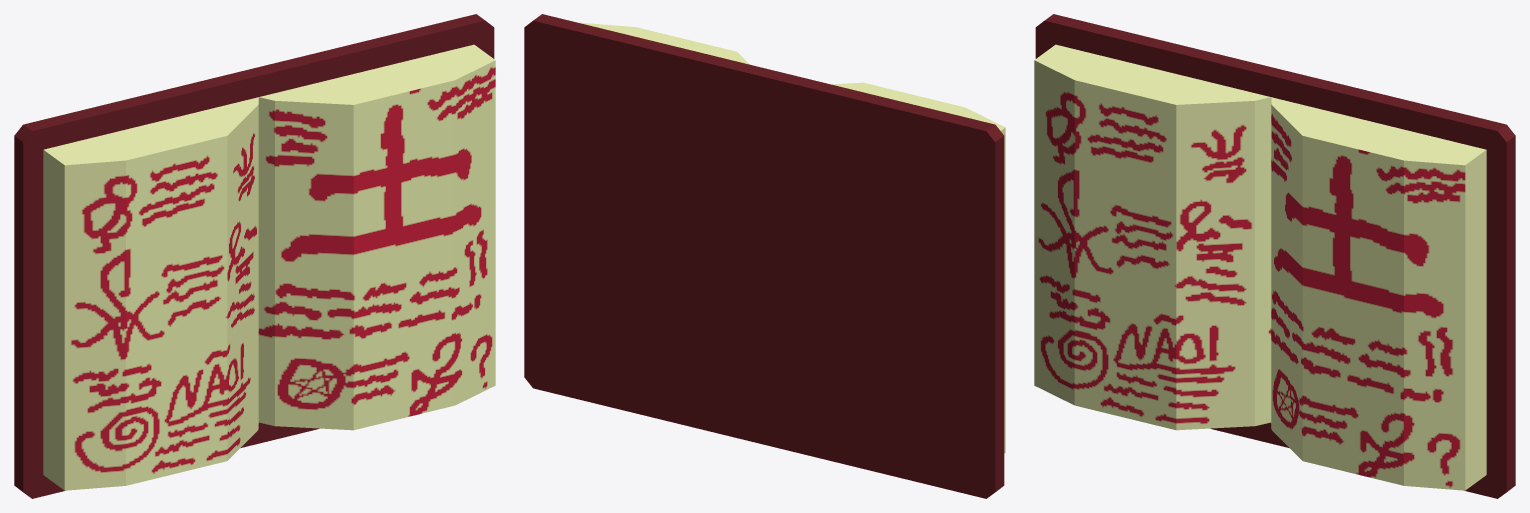
File: LivroOcultista.fbx
3 views of the same model, side by side, from view 1: azimuth 30°, elevation 25°; view 2: azimuth 150°, elevation 25°; view 3: azimuth 330°, elevation 25° (orthographic).
Visible parts, largest first — view 1: Livro; view 2: Livro; view 3: Livro.
Boxes of the visible parts, x1,y1,x2,y2 form: Livro: (14,14,495,498); Livro: (524,14,1005,498); Livro: (1034,14,1515,498).
Bounding box in the file's own units: 1.08 × 0.8095 × 0.1629.
